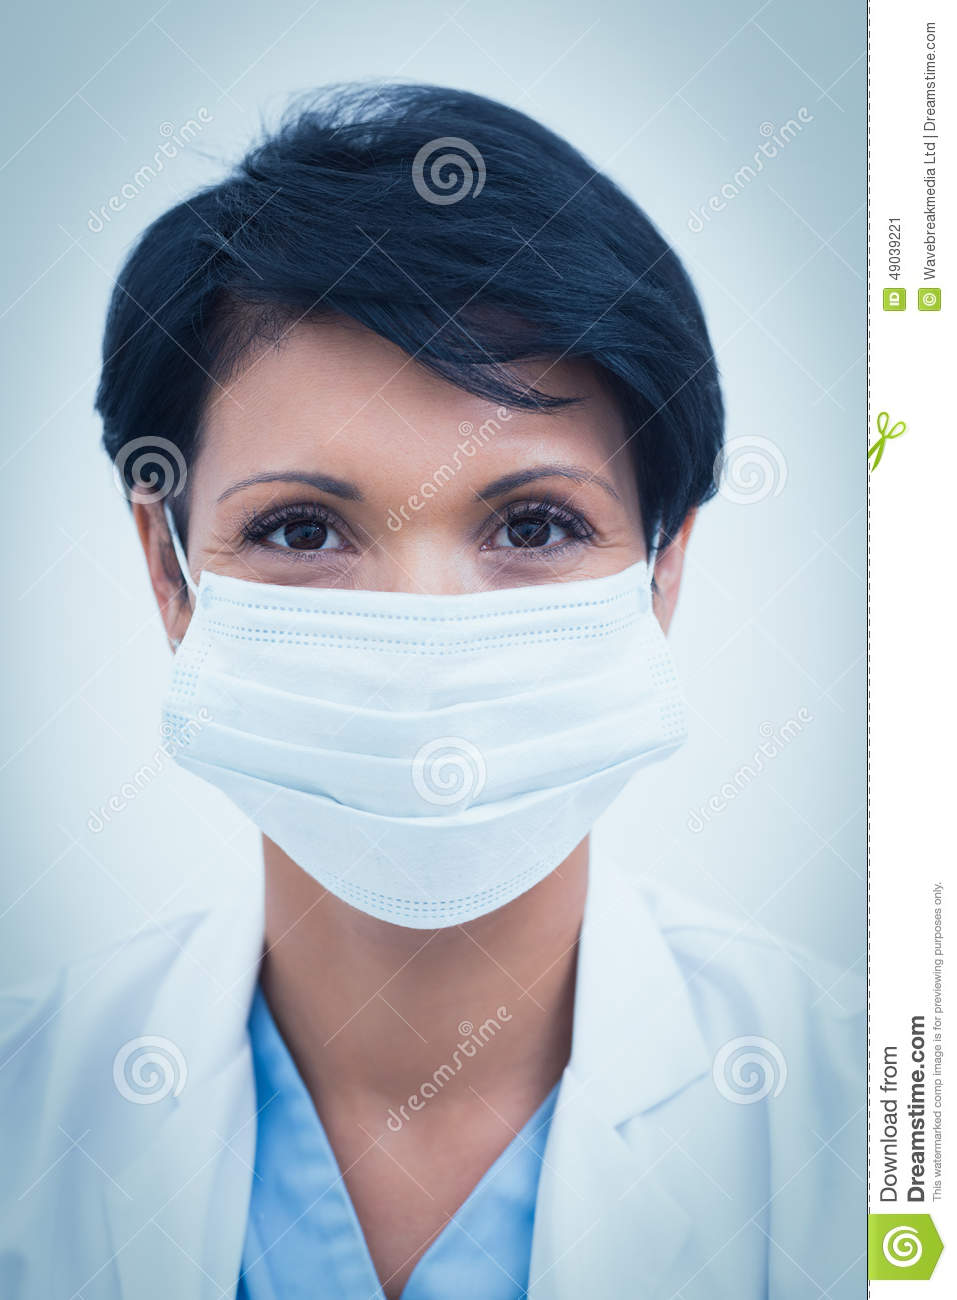mask: (188, 547, 650, 920)
